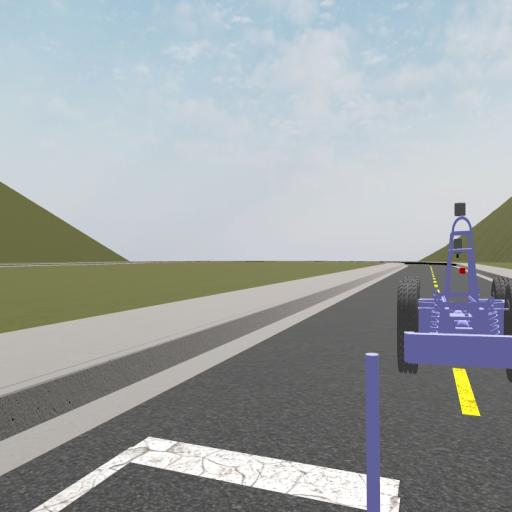ERP-42: (398, 203, 510, 384)
